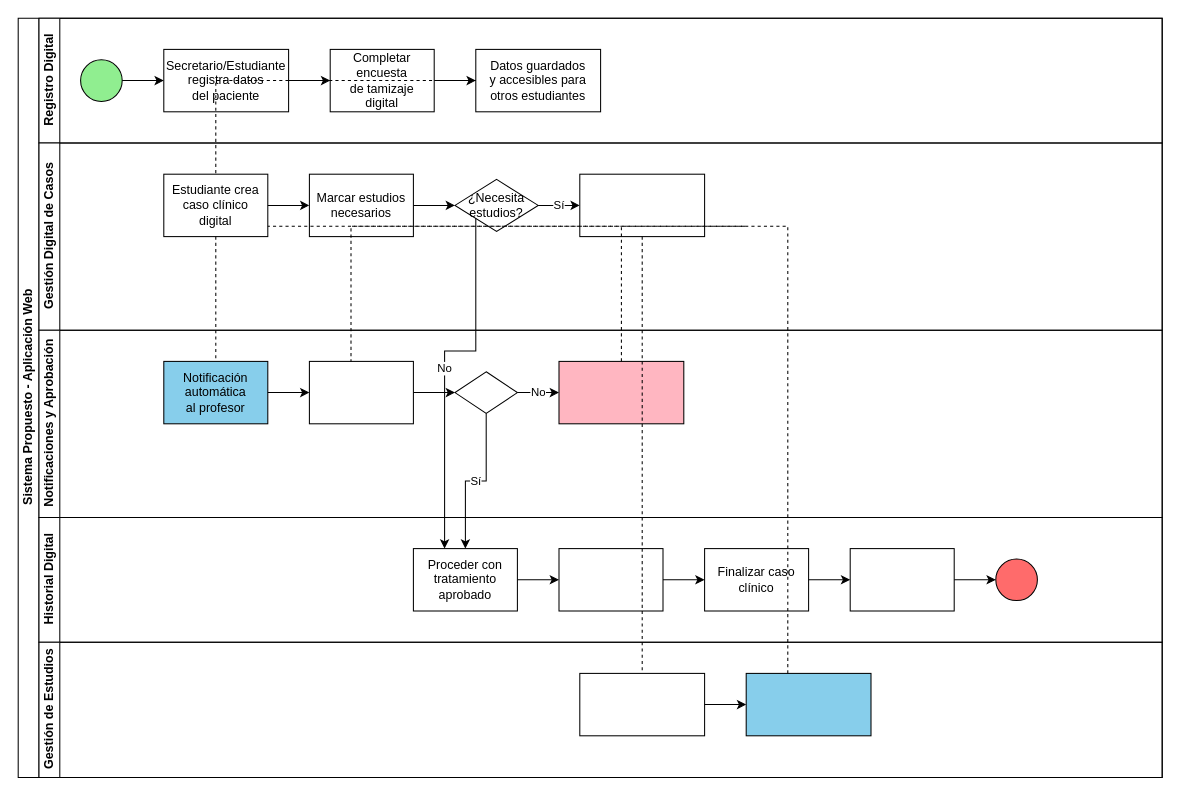
Image size: 1180x796. Some labels were removed from this diagram. Each missing label, with the centre of its shape:
"Agendar cita automática para traer estudios" goes at pixel 642 205.
"Guardar en historial digital del paciente" goes at pixel 901 579.
"Notificación de rechazo con observaciones" goes at pixel 621 392.
"Nueva notificación al profesor para revisar estudios" goes at pixel 808 704.
"Profesor revisa caso clínico digital" goes at pixel 360 392.
"Registrar seguimiento en sistema" goes at pixel 610 579.
"Subir y adjuntar estudios al caso clínico" goes at pixel 642 704.
"¿Aprueba?" goes at pixel 485 392.
